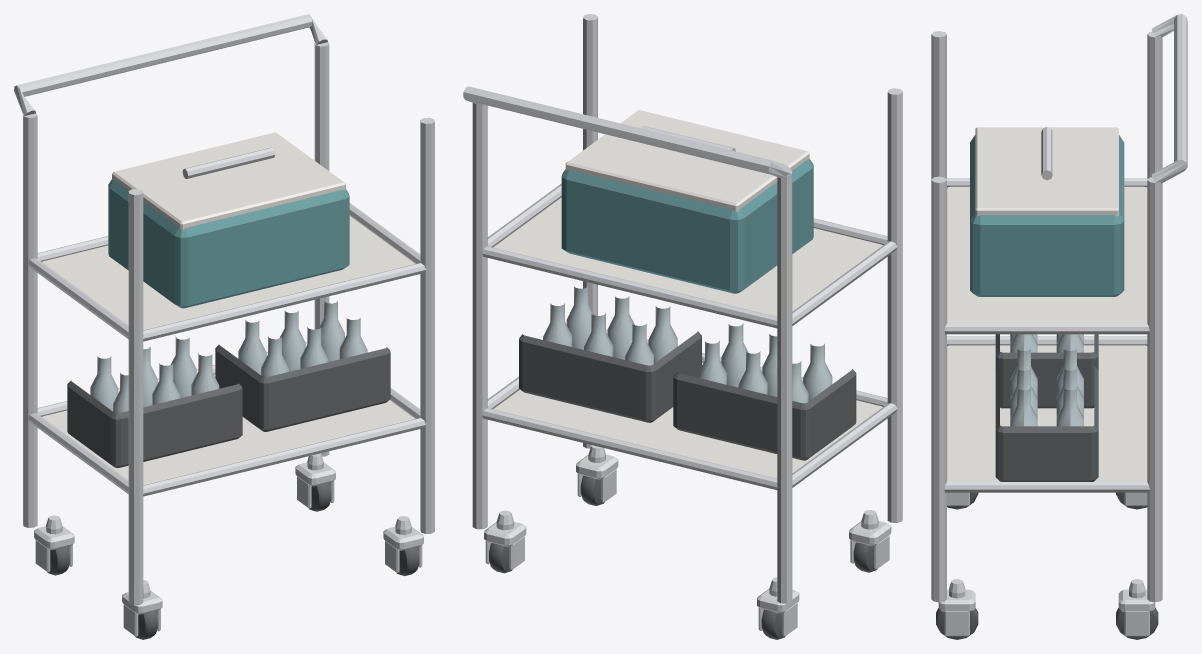
The model's file is hotel-and-resort-operations-minibar-restock-trolley-c44b6154__25890.glb.
The picture shows the model from 3 angles, left to right: view 1: azimuth 30°, elevation 25°; view 2: azimuth 150°, elevation 25°; view 3: azimuth 270°, elevation 25°; orthographic projection. The views are drawn at different scales.
Parts seen in each view (by area): view 1: minibar-restock-trolley, castor-lb, castor-rf, castor-rb, castor-lf; view 2: minibar-restock-trolley, castor-rb, castor-lf, castor-rf, castor-lb; view 3: minibar-restock-trolley, castor-rf (×2), castor-rb (×2).
Boxes of the visible parts, x1,y1,x2,y2 form: minibar-restock-trolley: (14,14,434,605); castor-lb: (34,515,74,572); castor-rf: (383,516,423,572); castor-rb: (295,453,335,508); castor-lf: (122,580,162,636); minibar-restock-trolley: (463,14,902,603); castor-rb: (484,510,526,570); castor-lf: (849,510,891,569); castor-rf: (576,445,618,502); castor-lb: (757,577,799,636); minibar-restock-trolley: (931,14,1187,602); castor-rf (×2): (936,579,978,639); castor-rb (×2): (1116,579,1158,639).
Bounding box in the file's own units: 0.7 × 1.04 × 0.4981.
